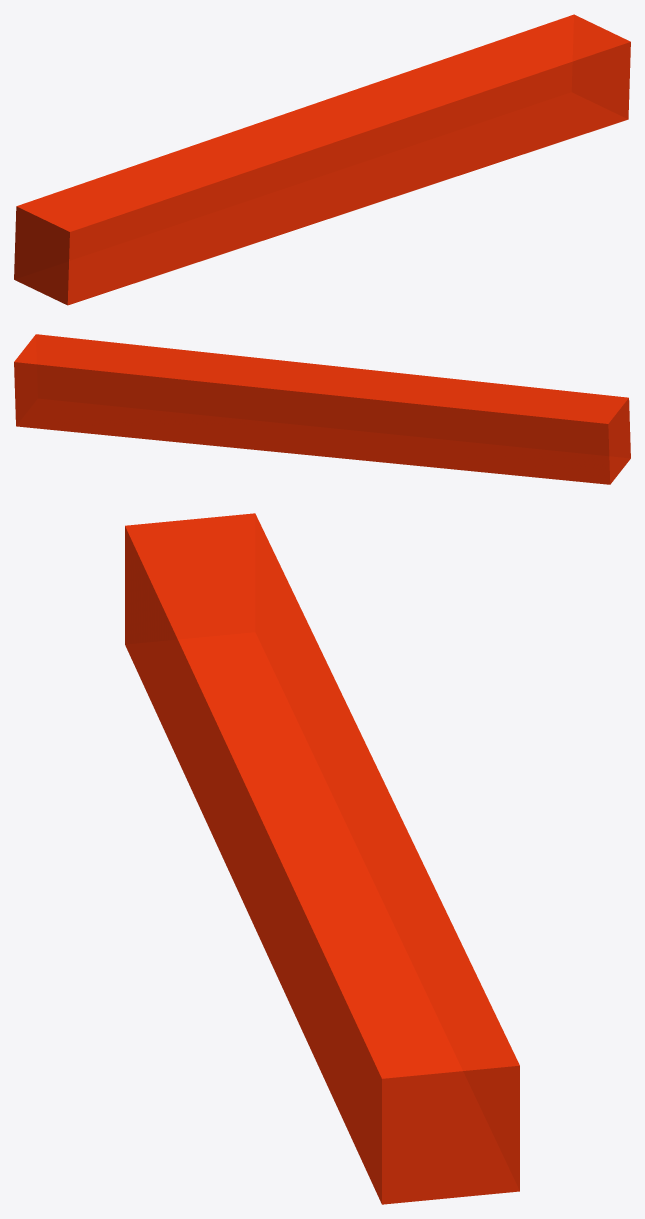
Rendered from Event_420094457_EErechit_54.fbx.
3 renders of one model, top to bottom at view 1: azimuth 30°, elevation 25°; view 2: azimuth 150°, elevation 25°; view 3: azimuth 270°, elevation 25°, orthographic. The views are drawn at different scales.
Visible parts, largest first — view 1: Model; view 2: Model; view 3: Model.
Boxes of the visible parts, x1,y1,x2,y2 form: Model: (14, 14, 630, 305); Model: (14, 334, 630, 484); Model: (125, 513, 519, 1204).
Size of the model in its own units: 0.6824 by 0.0995 by 0.2151.
